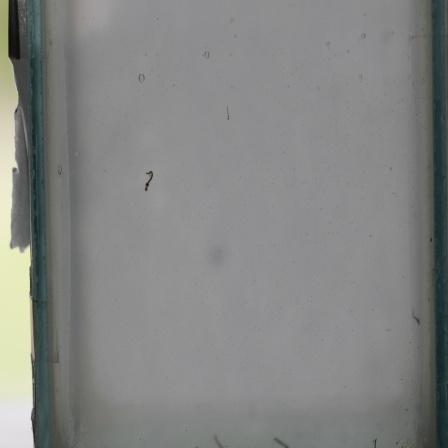Jentik-Nyamuk: (408, 303, 424, 328), (141, 169, 156, 195), (222, 103, 234, 123)
